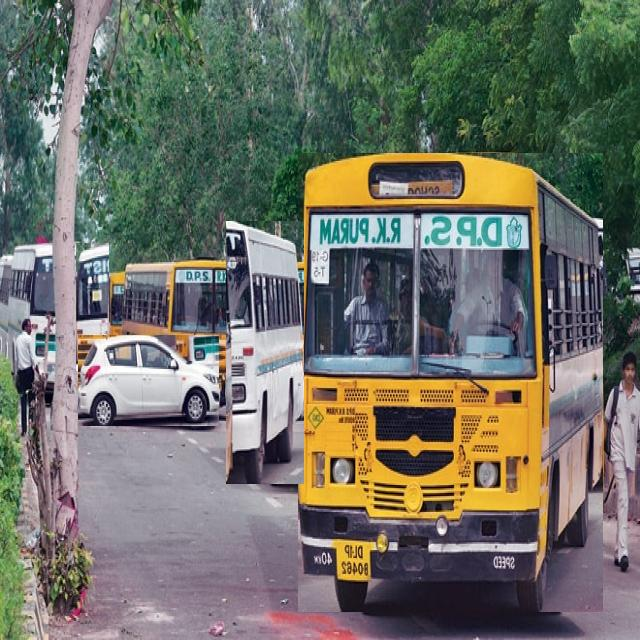bus: (299, 153, 603, 612), (226, 221, 304, 484), (123, 258, 231, 400), (9, 246, 54, 367), (77, 244, 109, 371)
car: (79, 336, 219, 426)
